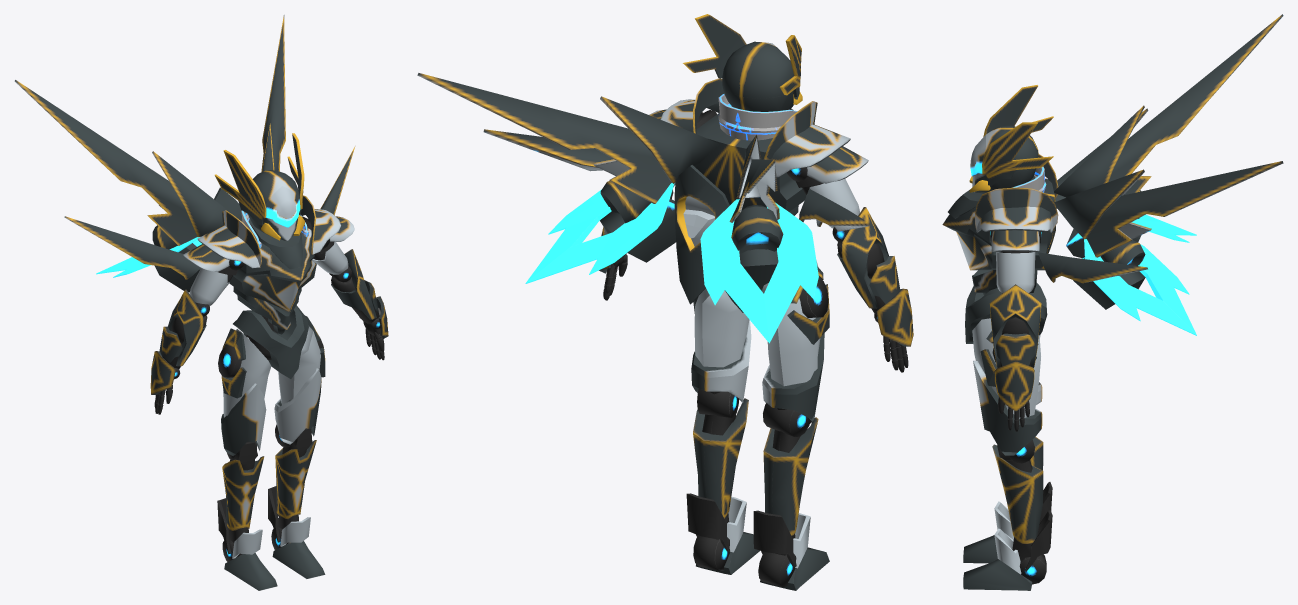
File: Male_1.glb
3 renders of one model, left to right at view 1: azimuth 30°, elevation 25°; view 2: azimuth 150°, elevation 25°; view 3: azimuth 270°, elevation 25°, orthographic. The views are drawn at different scales.
Visible parts, largest first — view 1: M1.1, WM2, H, AM, AMR, AMH1.001, AML, AMH2, NTC, AMM2; view 2: WM2, M1.1, H, AM, AMR, AMH1.001, Object001, AML, AMM2; view 3: WM2, M1.1, H, AML, AM, AMH2, AMM1, NTC.
Part boxes in pixels (box(x1,y1,x2,y2)): M1.1: box(150, 216, 388, 590); WM2: box(14, 15, 355, 292); H: box(214, 133, 304, 240); AM: box(229, 227, 316, 311); AMR: box(197, 210, 261, 268); AMH1.001: box(167, 289, 206, 366); AML: box(301, 195, 340, 254); AMH2: box(331, 249, 376, 319); NTC: box(248, 219, 302, 269); AMM2: box(183, 244, 229, 271); WM2: box(417, 73, 869, 343); M1.1: box(599, 110, 913, 590); H: box(683, 14, 802, 111); AM: box(695, 113, 806, 211); AMR: box(763, 101, 850, 177); AMH1.001: box(837, 207, 888, 308); Object001: box(718, 94, 797, 140); AML: box(660, 78, 723, 133); AMM2: box(807, 146, 868, 183); WM2: box(1038, 14, 1283, 335); M1.1: box(963, 231, 1052, 590); H: box(969, 85, 1053, 193); AML: box(975, 187, 1058, 232); AM: box(942, 178, 1055, 270); AMH2: box(989, 284, 1041, 367); AMM1: box(991, 230, 1039, 251); NTC: box(948, 176, 1035, 218).
Bounding box in the file's own units: 3.77 × 5.34 × 3.41.
Materials: 3 (3 with a texture image).
